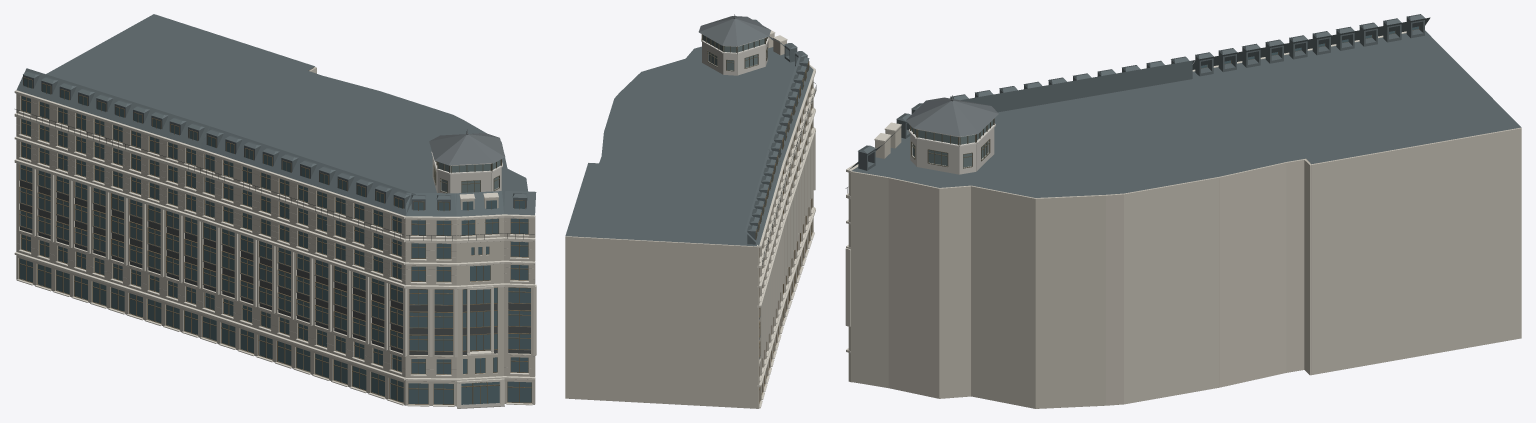
Rendered from 61a-exterior-115a0c99dfb3.glb.
3 views of the same model, side by side, from view 1: azimuth 30°, elevation 25°; view 2: azimuth 150°, elevation 25°; view 3: azimuth 270°, elevation 25° (orthographic). The views are drawn at different scales.
Parts seen in each view (by area): view 1: 61A.001; view 2: 61A.001; view 3: 61A.001.
Boxes of the visible parts, box(x1,y1,x2,y2) form: 61A.001: box(14, 14, 536, 408); 61A.001: box(565, 14, 816, 408); 61A.001: box(845, 14, 1521, 408).
Bounding box in the file's own units: 51.25 × 38.48 × 85.72.
